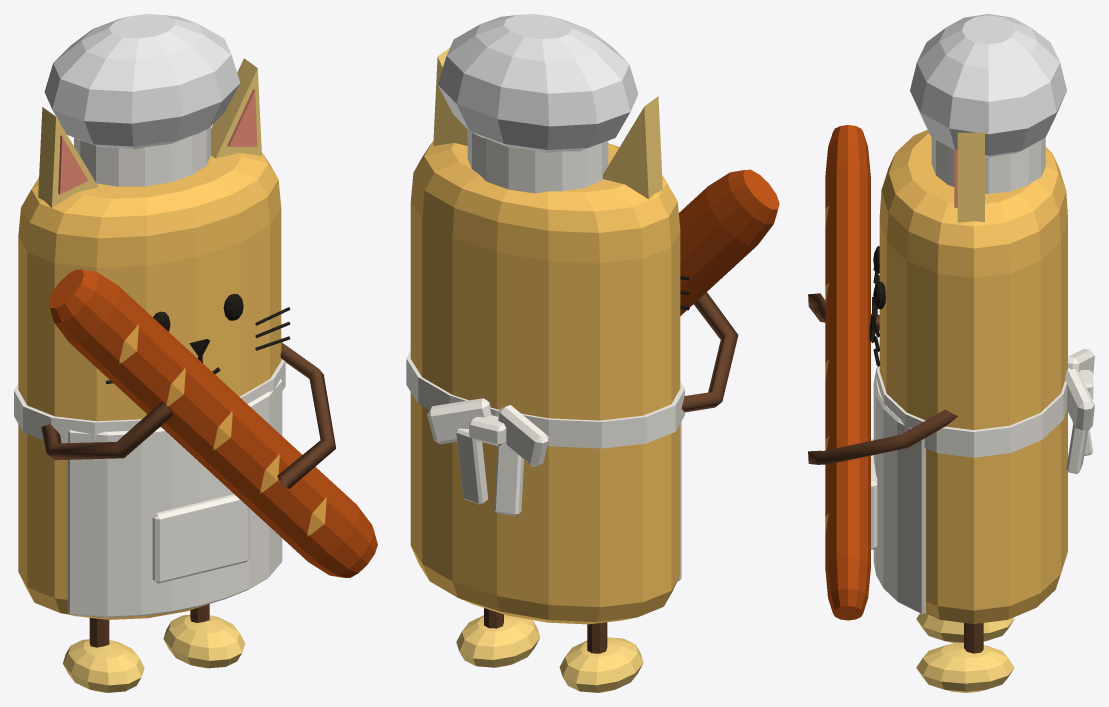
Rendered from char_baker_cat_rebuild_v8.glb.
3 views of the same model, side by side, from view 1: azimuth 30°, elevation 25°; view 2: azimuth 150°, elevation 25°; view 3: azimuth 270°, elevation 25° (orthographic). The views are drawn at different scales.
Parts seen in each view (by area): view 1: BC3_Body_Capsule, BC3_Baguette, BC3_Apron_Front, BC3_Hat_Puff, BC3_Apron_Pocket, BC3_Hat_Band, BC3_EarInner_L, BC3_Foot_R, BC3_Foot_L, BC3_EarInner_R, BC3_Apron_Waistband, BC3_Arm_R_LowerWrap (+2 smaller); view 2: BC3_Body_Capsule, BC3_Hat_Puff, BC3_Baguette, BC3_Hat_Band, BC3_Apron_Waistband, BC3_EarInner_L, BC3_Foot_L, BC3_Foot_R, BC3_Arm_L_UpperSupport, BC3_Ribbon_L, BC3_Bow_R, BC3_Bow_L (+4 smaller); view 3: BC3_Body_Capsule, BC3_Baguette, BC3_Hat_Puff, BC3_Apron_Front, BC3_Apron_Waistband, BC3_Foot_R, BC3_Hat_Band, BC3_EarInner_R, BC3_Arm_R_LowerWrap, BC3_Foot_L, BC3_Bow_R, BC3_Ribbon_R (+4 smaller).
Part boxes in pixels (x1,y1,x2,y2): BC3_Body_Capsule: (18,152,281,619); BC3_Baguette: (48,269,377,577); BC3_Apron_Front: (67,379,282,617); BC3_Hat_Puff: (44,14,240,149); BC3_Apron_Pocket: (152,494,249,583); BC3_Hat_Band: (74,126,210,186); BC3_EarInner_L: (38,107,98,207); BC3_Foot_R: (163,614,245,668); BC3_Foot_L: (63,639,144,692); BC3_EarInner_R: (211,58,261,158); BC3_Apron_Waistband: (14,359,285,443); BC3_Arm_R_LowerWrap: (277,342,335,488); BC3_Body_Capsule: (410,141,680,624); BC3_Hat_Puff: (437,14,638,152); BC3_Baguette: (679,169,779,315); BC3_Hat_Band: (467,129,608,193); BC3_Apron_Waistband: (406,351,684,448); BC3_EarInner_L: (603,96,662,199); BC3_Foot_L: (559,637,643,692); BC3_Foot_R: (456,614,540,667); BC3_Arm_L_UpperSupport: (681,292,738,412); BC3_Ribbon_L: (494,441,523,515); BC3_Bow_R: (427,398,491,444); BC3_Bow_L: (498,405,548,466); BC3_Body_Capsule: (879,130,1067,623); BC3_Baguette: (825,125,870,620); BC3_Hat_Puff: (910,14,1066,157); BC3_Apron_Front: (873,367,925,614); BC3_Apron_Waistband: (877,366,1069,457); BC3_Foot_R: (916,642,1014,692); BC3_Hat_Band: (931,137,1045,193); BC3_EarInner_R: (954,132,984,222); BC3_Arm_R_LowerWrap: (808,409,957,464); BC3_Foot_L: (916,613,1014,643); BC3_Bow_R: (1065,369,1094,431); BC3_Ribbon_R: (1066,399,1092,473).
Bounding box in the file's own units: 3.56 × 6.67 × 2.74.
Materials: 7 (1 with a texture image).
